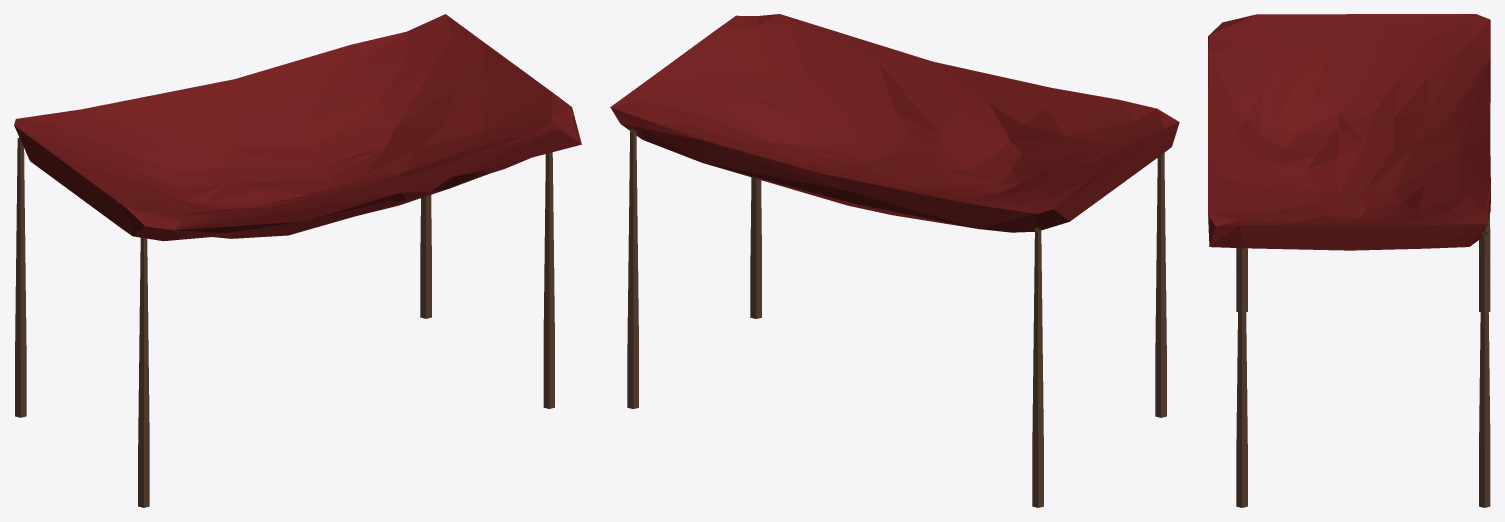
The model's file is SM_marketstand_01.fbx.
3 renders of one model, left to right at view 1: azimuth 30°, elevation 25°; view 2: azimuth 150°, elevation 25°; view 3: azimuth 270°, elevation 25°, orthographic.
Visible parts, largest first — view 1: Cylinder004; view 2: Cylinder004; view 3: Cylinder004.
Part boxes in pixels (left/top/right/bottom): Cylinder004: left=14, top=14, right=581, bottom=507; Cylinder004: left=610, top=14, right=1179, bottom=507; Cylinder004: left=1208, top=14, right=1490, bottom=507.
Size of the model in its own units: 163 by 105 by 92.52.
